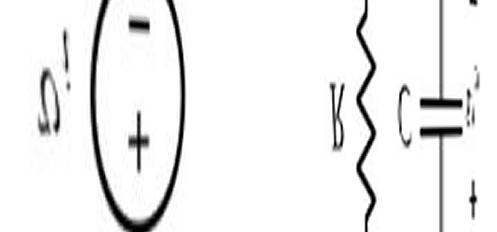resistor: (350, 1, 389, 230)
